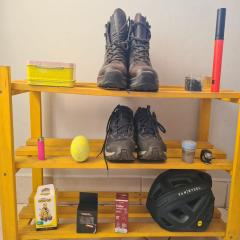bola: (70, 134, 90, 164)
bomba: (210, 6, 226, 93)
bota1: (98, 9, 160, 92)
bota2: (104, 102, 168, 164)
capacete: (146, 168, 216, 232)
cx-bike: (76, 192, 98, 234)
cx-ferro: (114, 192, 130, 234)
cx-magali: (26, 59, 77, 87)
cx-minions: (34, 184, 60, 231)
cx-xuxa: (184, 73, 205, 94)
isqueiro: (36, 136, 46, 161)
luz: (200, 148, 213, 166)
pote: (181, 138, 197, 164)
